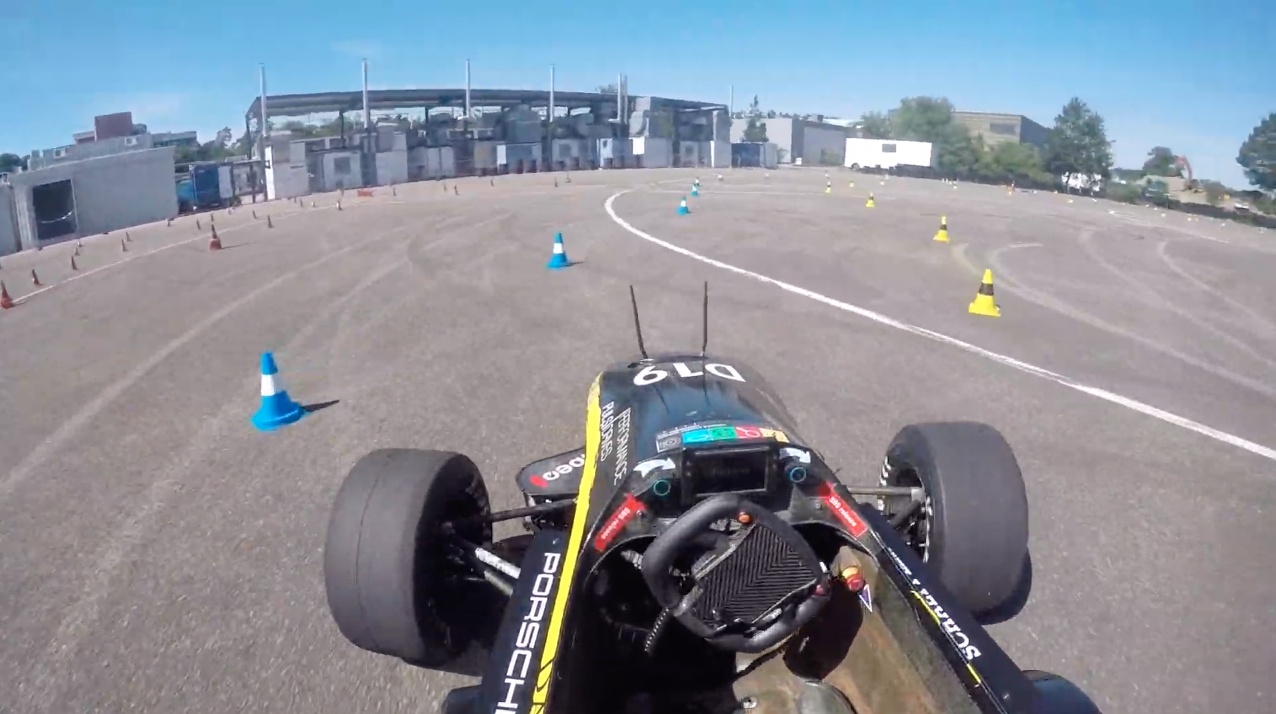lcone: (245, 349, 311, 435), (544, 228, 577, 271), (674, 193, 692, 218)
rcone: (963, 263, 1008, 321), (930, 213, 956, 246)
